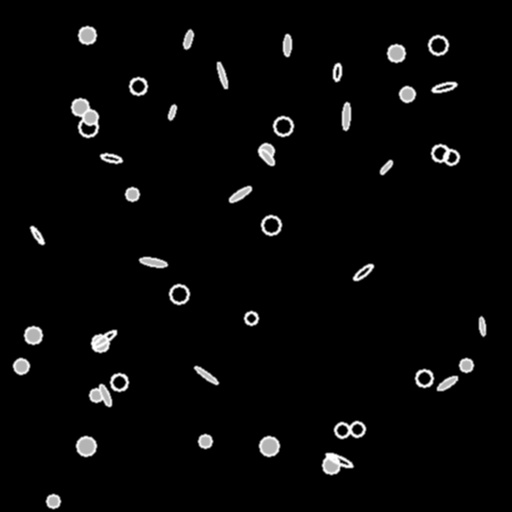pseudomonas: (90, 328, 118, 350), (325, 451, 353, 469), (194, 365, 218, 385), (228, 184, 252, 204), (352, 262, 374, 282), (435, 374, 459, 392), (215, 61, 229, 89), (97, 383, 113, 407), (29, 225, 45, 245), (431, 81, 457, 93), (259, 148, 275, 166), (139, 257, 167, 267), (100, 152, 122, 164), (182, 29, 194, 49), (379, 159, 393, 175), (342, 103, 350, 129), (478, 316, 486, 336), (283, 35, 291, 55), (167, 104, 177, 120), (333, 64, 341, 80)
synechocystis: (274, 117, 292, 135), (260, 437, 278, 455), (77, 437, 95, 455), (79, 118, 97, 136), (429, 36, 447, 54), (262, 216, 280, 234), (170, 285, 188, 303), (432, 145, 448, 161), (72, 99, 88, 115), (388, 45, 404, 61), (111, 374, 127, 390), (92, 335, 108, 351), (323, 457, 339, 473), (79, 27, 95, 43), (25, 327, 41, 343), (130, 78, 146, 94), (416, 370, 432, 386), (444, 150, 458, 164), (14, 359, 28, 373), (400, 87, 414, 101), (335, 423, 349, 437), (259, 144, 273, 158), (350, 422, 364, 436), (83, 110, 97, 124), (47, 495, 59, 507), (90, 389, 102, 401), (199, 435, 211, 447), (245, 312, 257, 324), (460, 359, 472, 371), (126, 188, 138, 200)
